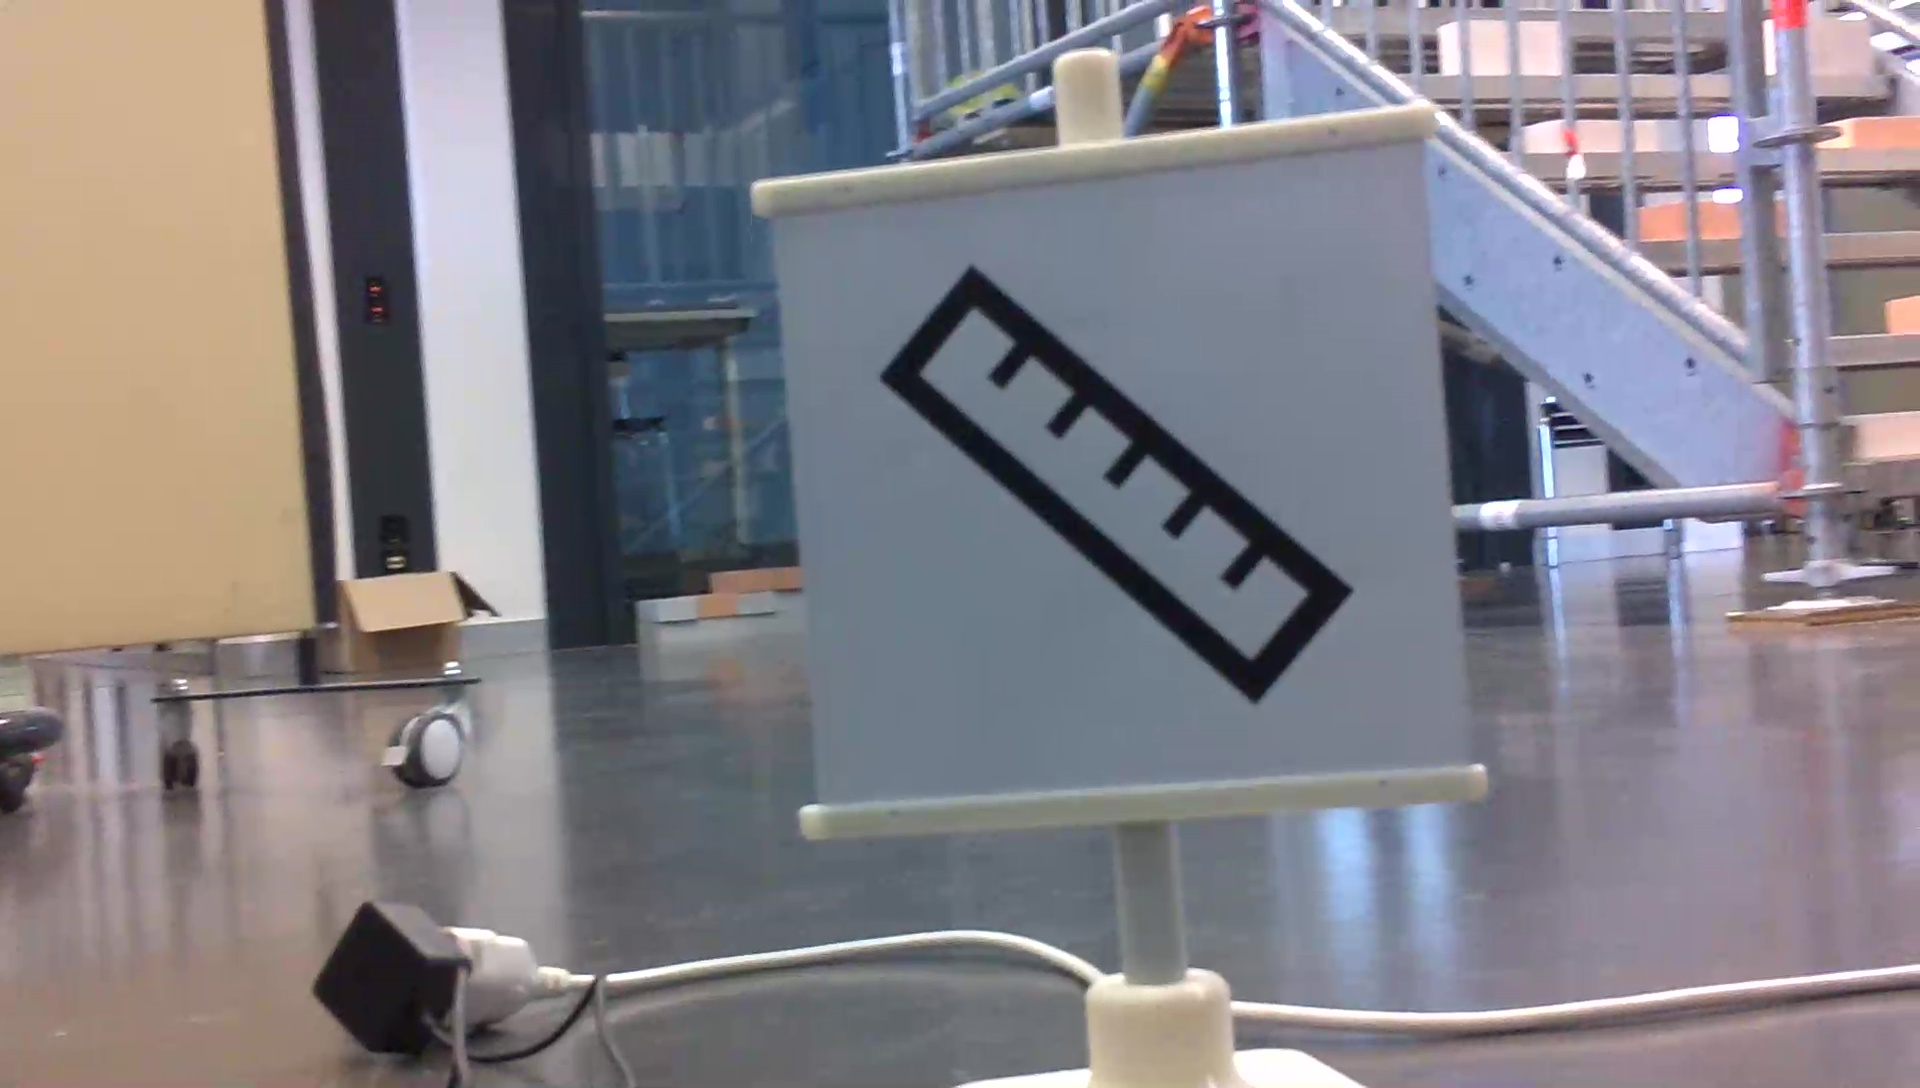brick: (1441, 17, 1571, 76), (1760, 17, 1867, 76), (1639, 200, 1788, 235), (1832, 111, 1920, 148), (1524, 125, 1635, 154), (1634, 113, 1709, 152), (1880, 291, 1920, 338)
ruler: (874, 240, 1375, 702)
